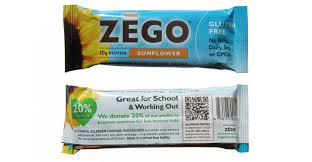qr_code: (181, 95, 213, 123)
